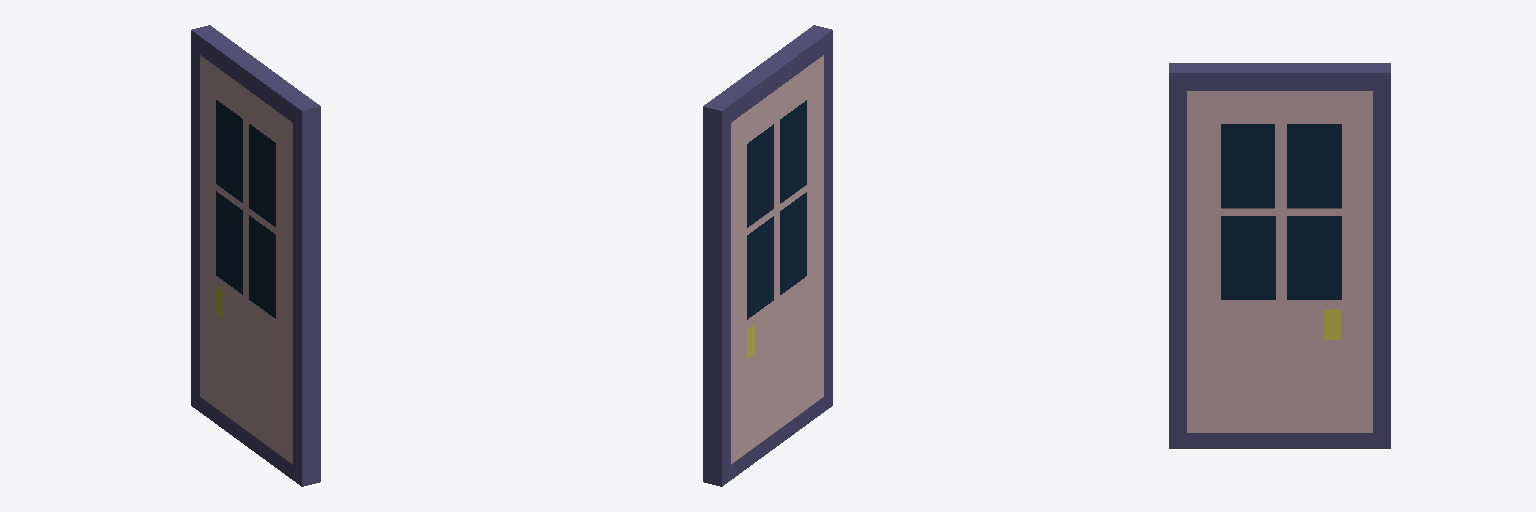
3 views of the same model, side by side, from view 1: azimuth 30°, elevation 25°; view 2: azimuth 150°, elevation 25°; view 3: azimuth 270°, elevation 25° (orthographic).
Visible parts, largest first — view 1: puerta7:pCube299; view 2: puerta7:pCube299; view 3: puerta7:pCube299.
Boxes of the visible parts, x1=… form: puerta7:pCube299: x1=191, y1=25, x2=320, y2=486; puerta7:pCube299: x1=703, y1=25, x2=832, y2=486; puerta7:pCube299: x1=1169, y1=63, x2=1390, y2=448.
Bounding box in the file's own units: 0.1615 × 3.02 × 1.62.
1 materials, 1 textured.